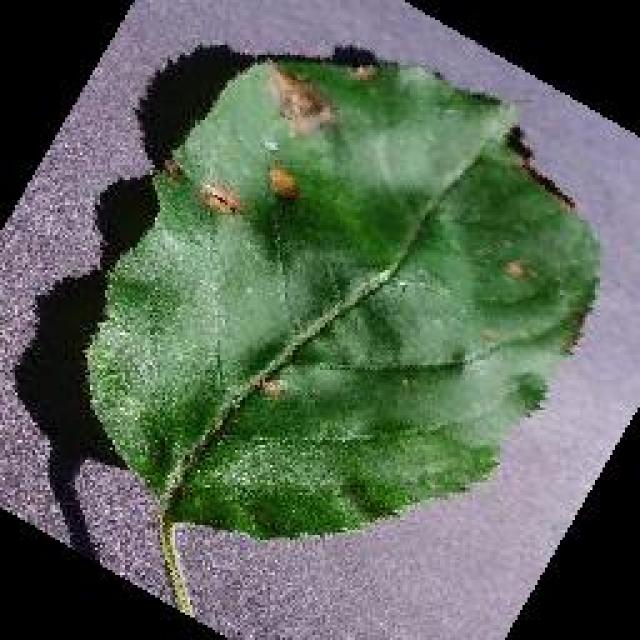Black_rot: (80, 50, 602, 635)
